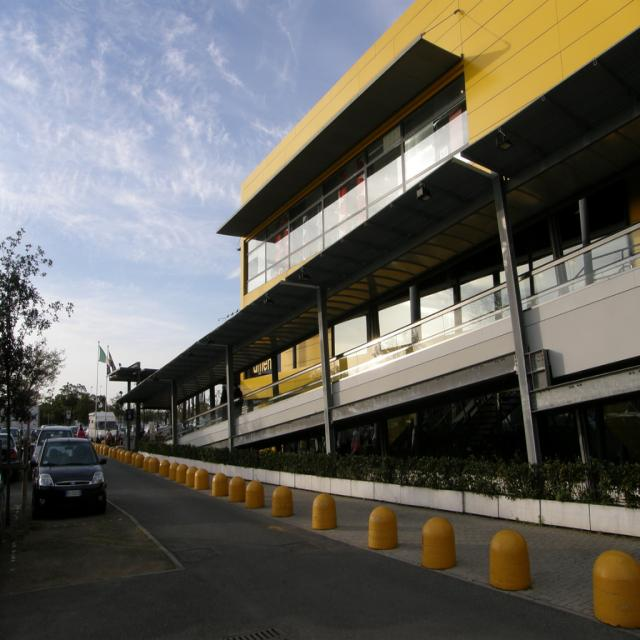car: (19, 432, 110, 515)
